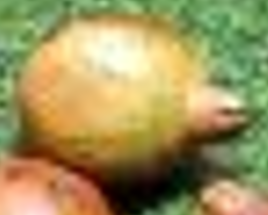pomegranate_B: (16, 11, 250, 186)
